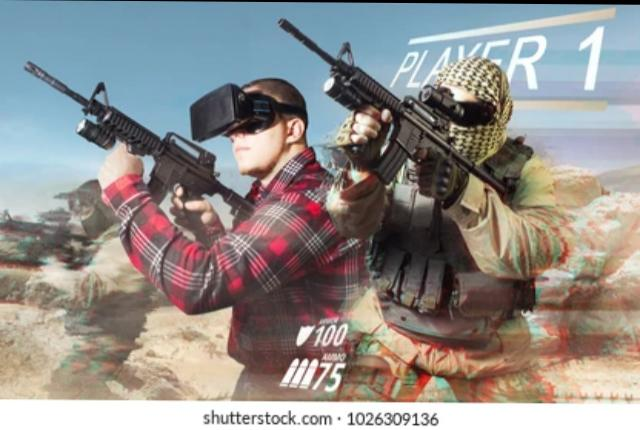other: (126, 64, 350, 395), (358, 48, 546, 387)
